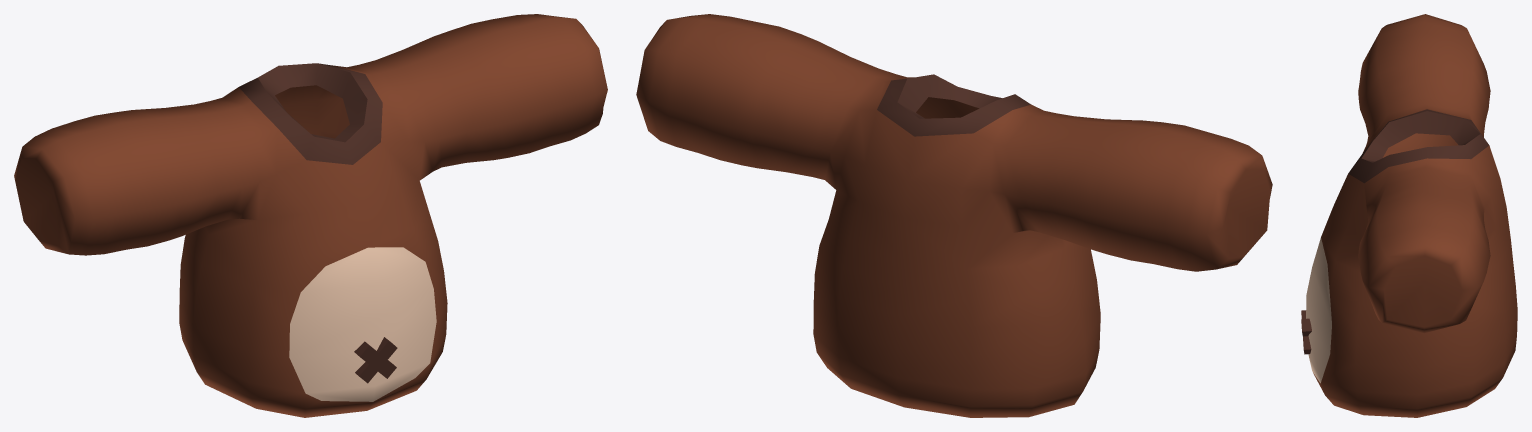
File: Top_73.fbx
3 views of the same model, side by side, from view 1: azimuth 30°, elevation 25°; view 2: azimuth 150°, elevation 25°; view 3: azimuth 270°, elevation 25° (orthographic). The views are drawn at different scales.
Visible parts, largest first — view 1: Top_73; view 2: Top_73; view 3: Top_73.
Part boxes in pixels (x1,y1,x2,y2): Top_73: (14, 14, 607, 417); Top_73: (636, 14, 1272, 417); Top_73: (1301, 14, 1517, 417).
Bounding box in the file's own units: 98 × 50.18 × 37.8.
